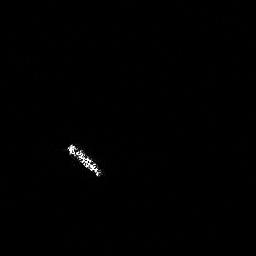ship: (66, 143, 103, 178)
